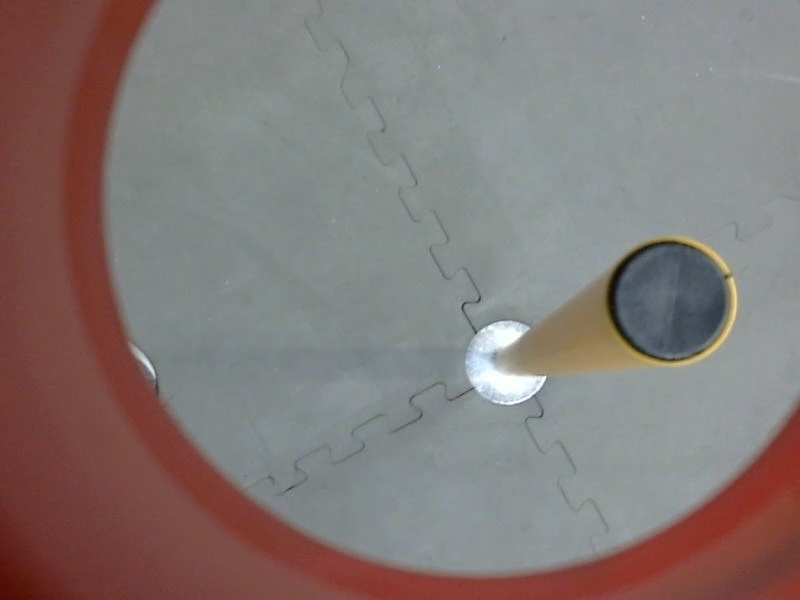tip: (597, 223, 745, 379)
